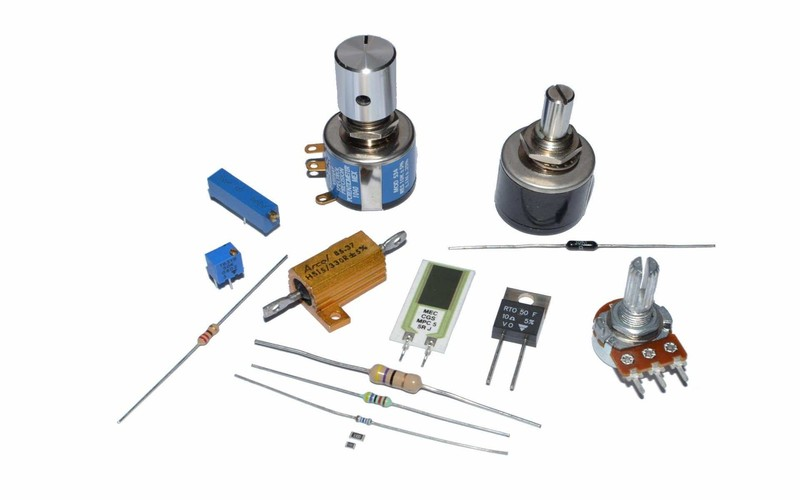Resistor: (284, 33, 609, 236), (142, 140, 287, 282), (577, 252, 706, 405), (302, 347, 441, 487), (175, 302, 232, 377), (533, 227, 621, 271)
